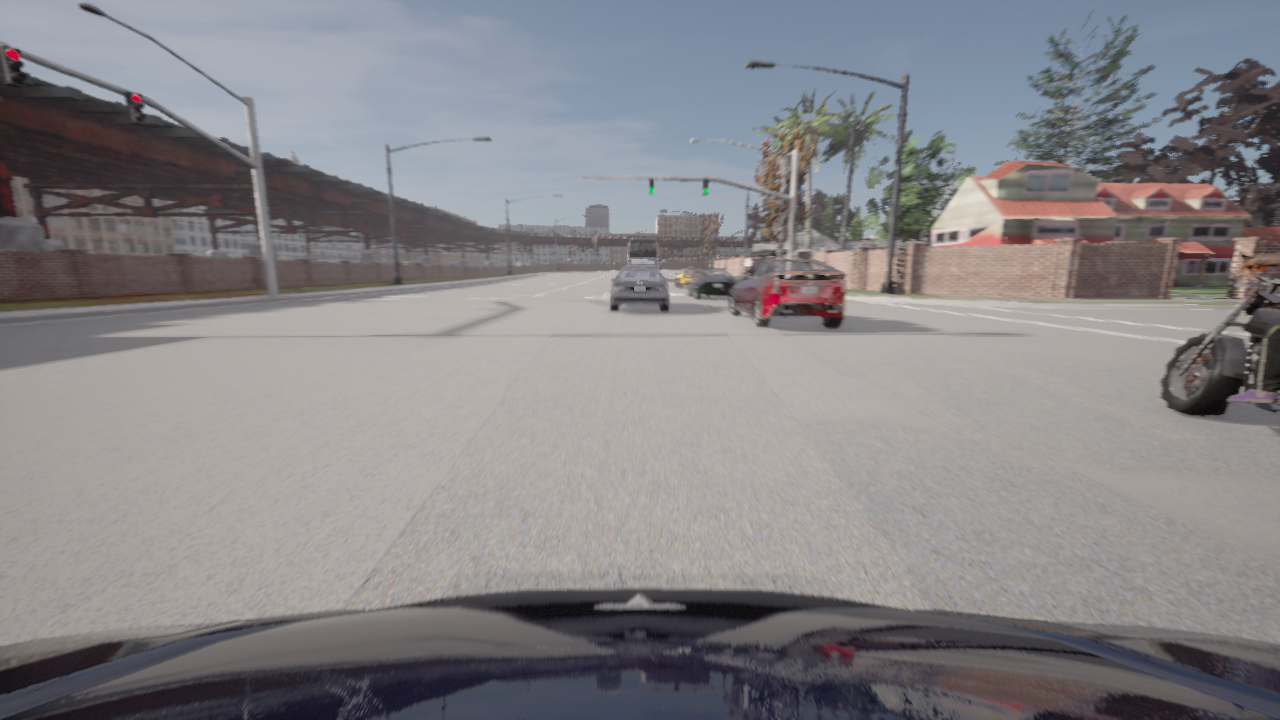cyclist: (0, 588, 1279, 719), (1159, 252, 1279, 416), (730, 259, 845, 327), (611, 267, 668, 310), (688, 269, 737, 299), (627, 243, 658, 266), (675, 266, 699, 287)
